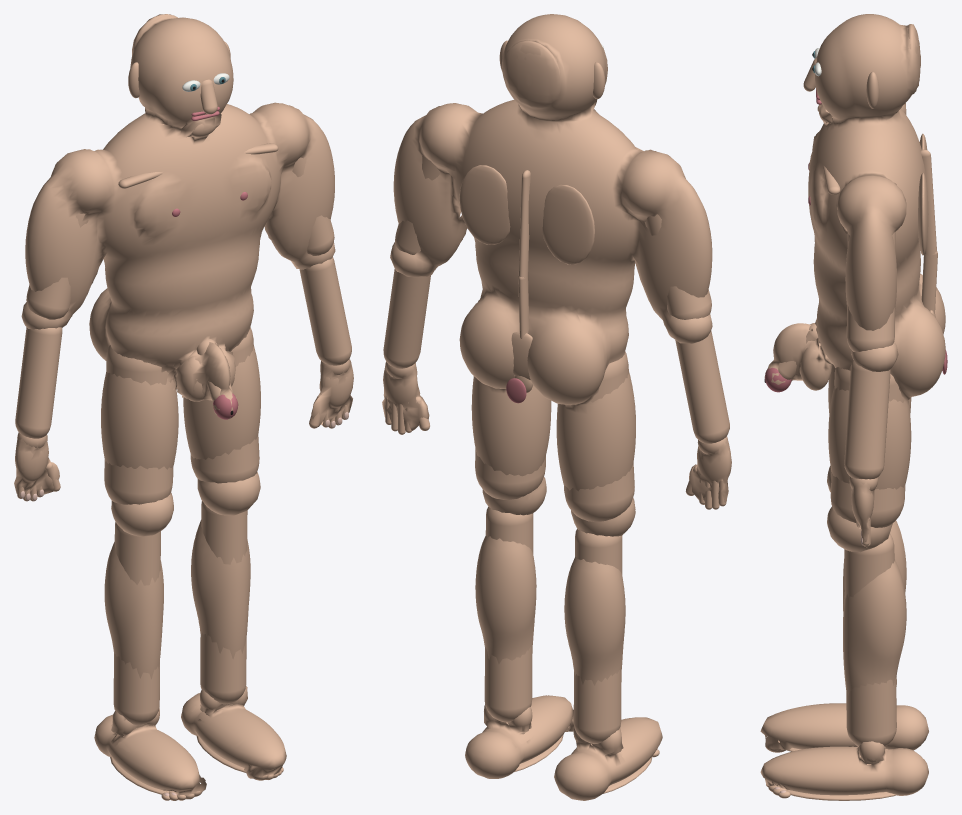
File: body-junger-erwachsener-maennlich-v2.glb
3 views of the same model, side by side, from view 1: azimuth 30°, elevation 25°; view 2: azimuth 150°, elevation 25°; view 3: azimuth 270°, elevation 25° (orthographic). The views are drawn at different scales.
Visible parts, largest first — view 1: zone__visual-surface-body-junger-erwachsener-maennlich, zone__surface-lower-leg-right, zone__surface-lower-leg-left, zone__surface-forearm-left, zone__surface-thigh-left, zone__surface-forearm-right, zone__surface-thigh-right, zone__surface-upper-arm-left, zone__surface-upper-arm-right; view 2: zone__visual-surface-body-junger-erwachsener-maennlich, zone__surface-lower-leg-right, zone__surface-lower-leg-left, zone__surface-forearm-left, zone__surface-forearm-right, zone__surface-scapula-left, zone__surface-scapula-right, zone__surface-thigh-left, zone__surface-thigh-right, zone__surface-upper-arm-left, zone__surface-thoracic-spine, zone__surface-upper-arm-right (+1 smaller); view 3: zone__visual-surface-body-junger-erwachsener-maennlich, zone__surface-lower-leg-right, zone__surface-forearm-right, zone__surface-thigh-right, zone__surface-upper-arm-right, zone__surface-thoracic-spine, zone__surface-lumbar-spine, zone__surface-scapula-right, zone__surface-sole-right, zone__surface-penis, zone__surface-glans, zone__surface-ear-right.
Boxes of the visible parts, x1,y1,x2,y2 form: zone__visual-surface-body-junger-erwachsener-maennlich: (14, 14, 353, 795); zone__surface-lower-leg-right: (200, 501, 247, 704); zone__surface-lower-leg-left: (113, 522, 160, 725); zone__surface-forearm-left: (15, 327, 62, 438); zone__surface-thigh-left: (104, 345, 173, 504); zone__surface-forearm-right: (299, 257, 351, 365); zone__surface-thigh-right: (190, 327, 259, 483); zone__surface-upper-arm-left: (26, 213, 88, 319); zone__surface-upper-arm-right: (292, 157, 334, 255); zone__visual-surface-body-junger-erwachsener-maennlich: (382, 14, 731, 800); zone__surface-lower-leg-right: (484, 507, 533, 722); zone__surface-lower-leg-left: (573, 529, 622, 743); zone__surface-forearm-left: (675, 330, 729, 443); zone__surface-forearm-right: (383, 269, 430, 368); zone__surface-scapula-left: (542, 184, 594, 264); zone__surface-scapula-right: (459, 165, 510, 244); zone__surface-thigh-left: (564, 351, 634, 521); zone__surface-thigh-right: (475, 448, 545, 499); zone__surface-upper-arm-left: (644, 214, 711, 319); zone__surface-thoracic-spine: (518, 170, 530, 282); zone__surface-upper-arm-right: (395, 156, 440, 254); zone__visual-surface-body-junger-erwachsener-maennlich: (760, 14, 945, 795); zone__surface-lower-leg-right: (844, 533, 896, 746); zone__surface-forearm-right: (844, 360, 890, 479); zone__surface-thigh-right: (830, 367, 905, 527); zone__surface-upper-arm-right: (846, 232, 895, 351); zone__surface-thoracic-spine: (920, 149, 936, 259); zone__surface-lumbar-spine: (921, 251, 937, 313); zone__surface-scapula-right: (918, 173, 928, 255); zone__surface-sole-right: (787, 789, 896, 800); zone__surface-penis: (778, 323, 820, 379); zone__surface-glans: (765, 367, 791, 392); zone__surface-ear-right: (866, 72, 879, 108).
Bounding box in the file's own units: 0.8258 × 1.72 × 0.3879.
